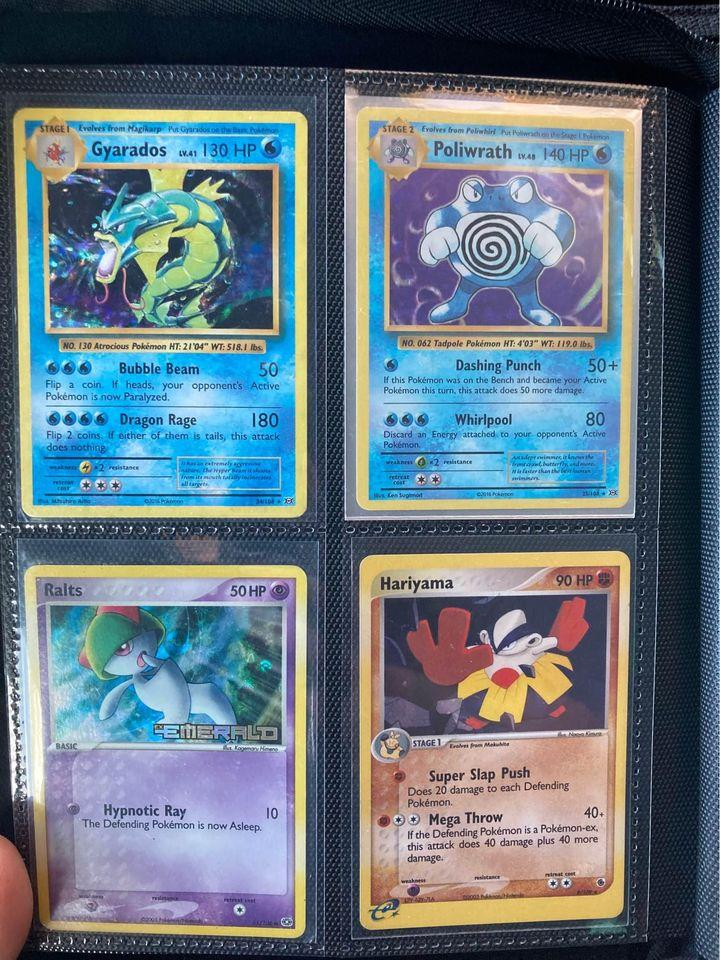card: (8, 104, 309, 519), (354, 104, 636, 510), (22, 562, 309, 939), (358, 548, 632, 932)
